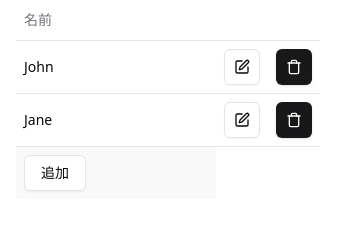
Test: ClientPurchasersTable › 既存メンバー名に編集した場合はエラーが表示される
# JaneをJohnに変更しようとする
Click the button named "Edit" in the row of "Jane": [242, 120] box [224,102,260,138]
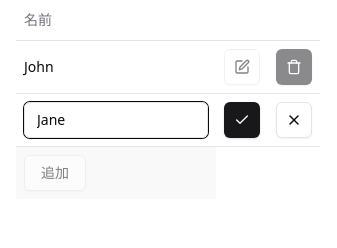
Expected: the field is shown
Replace the text in the field with "John": [116, 120] box [24,102,208,138]
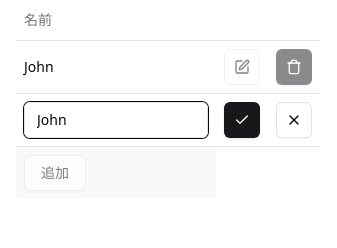
Click the button named "Save": [242, 120] box [224,102,260,138]
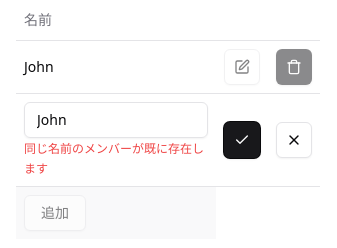
Expected: the text "同じ名前のメンバーが既に存在します" is shown, [24,140,204,176]
